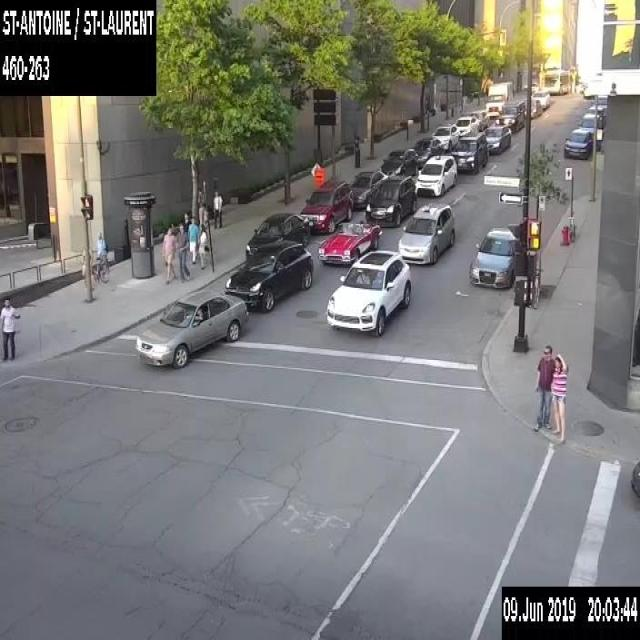bus: (544, 67, 572, 94)
construction: (314, 167, 324, 184)
pedestrian: (533, 342, 554, 430), (549, 352, 568, 442), (0, 296, 21, 364), (173, 223, 189, 281), (162, 225, 176, 282), (187, 217, 199, 262), (197, 223, 209, 268), (212, 190, 223, 230), (82, 243, 92, 286), (96, 231, 106, 274), (197, 186, 206, 230), (180, 212, 192, 234)
vehicle: (134, 289, 248, 367), (326, 248, 410, 336), (224, 238, 313, 312), (397, 201, 455, 264), (245, 211, 310, 261), (467, 225, 514, 291), (298, 178, 353, 233), (318, 219, 382, 265), (364, 174, 416, 227), (413, 154, 457, 195), (349, 168, 388, 208), (450, 132, 488, 172), (380, 146, 418, 179), (484, 80, 512, 118), (412, 136, 444, 168), (494, 99, 524, 132), (563, 128, 593, 158), (482, 125, 511, 154), (578, 112, 600, 150), (430, 123, 459, 150), (453, 115, 479, 136), (588, 104, 606, 128), (469, 109, 489, 130), (530, 89, 550, 108), (523, 98, 542, 116), (630, 463, 639, 497), (596, 93, 608, 112), (582, 85, 594, 98)
